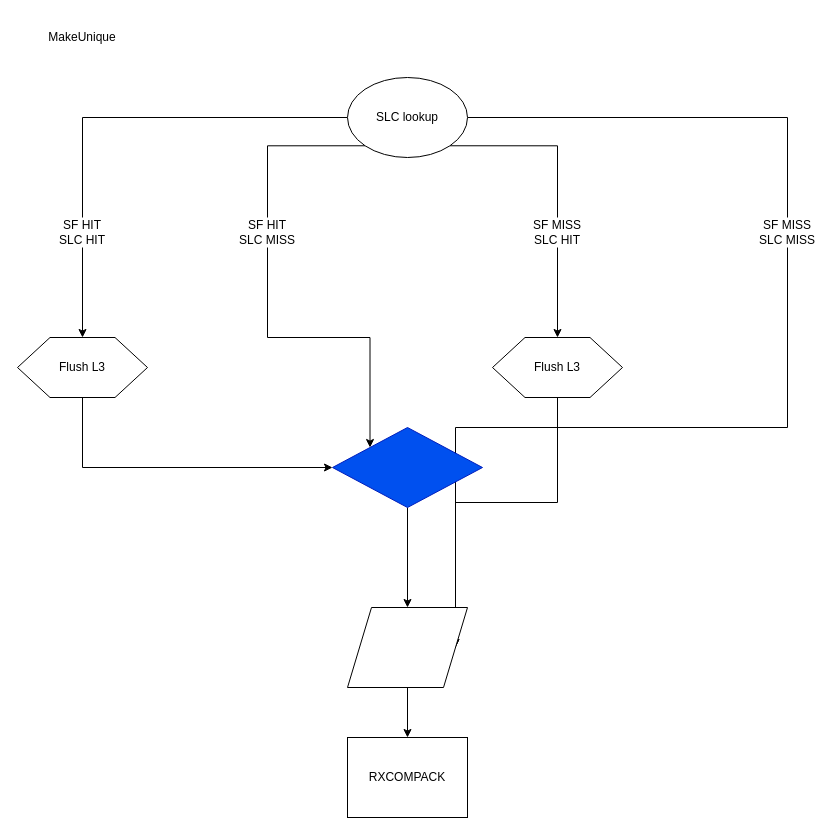
Some shapes in this 835 by 835 pixel diagram are drawn without their labels. The shapes that lost their labels are listed below. From the top down, each one's centre as x and y in pixels, then its label:
the point at 407,467: SnpMakeInvid Graph
the point at 407,647: TXCOMP
